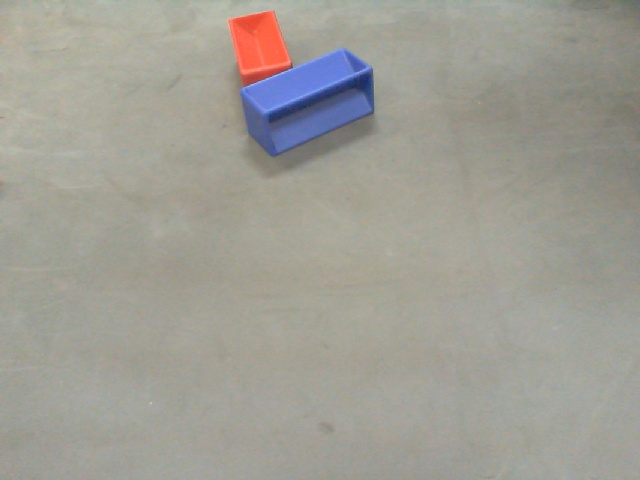BlueSample: (236, 44, 377, 159)
RedSample: (227, 9, 291, 86)
